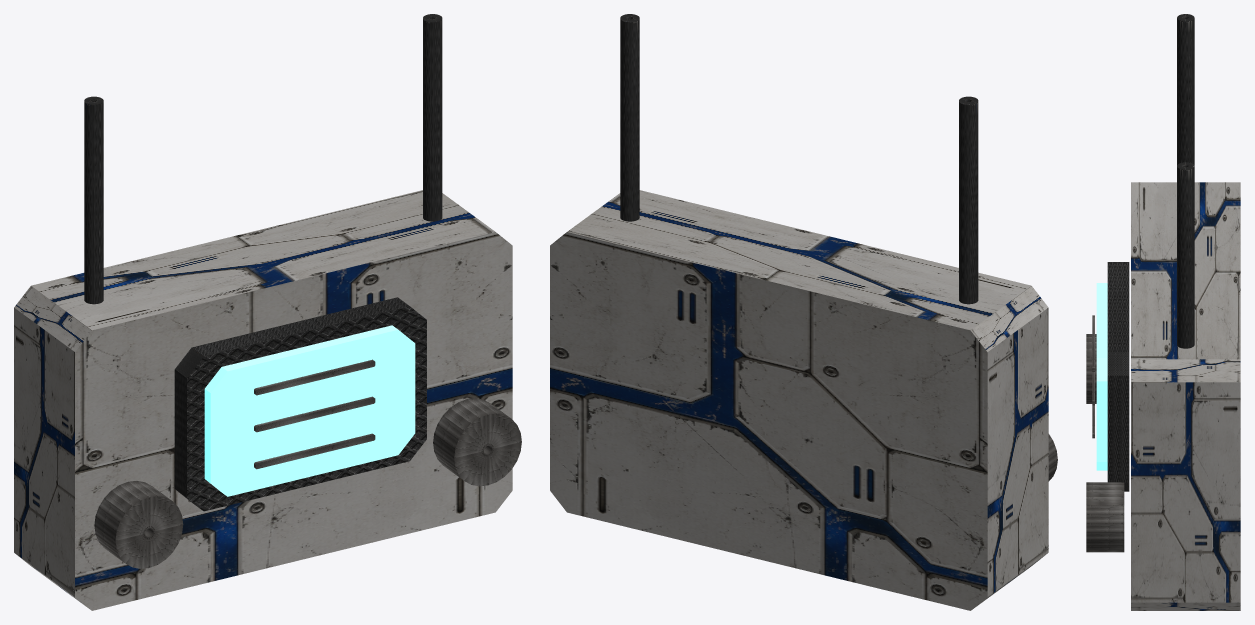
Rendered from drone_controller.gltf.
3 views of the same model, side by side, from view 1: azimuth 30°, elevation 25°; view 2: azimuth 150°, elevation 25°; view 3: azimuth 270°, elevation 25° (orthographic). The views are drawn at different scales.
Visible parts, largest first — view 1: Controller, Display, DisplayFrame, Joystick (×2), Antenna (×2), ScreenReadout (×3); view 2: Controller, Antenna (×2); view 3: Controller, Antenna (×2), DisplayFrame, Joystick (×2), Display.
Part boxes in pixels (<box>): Controller: <box>14,190,512,610</box>; Display: <box>204,325,415,496</box>; DisplayFrame: <box>174,297,426,511</box>; Joystick (×2): <box>94,398,521,568</box>; Antenna (×2): <box>84,14,442,304</box>; ScreenReadout (×3): <box>254,359,375,469</box>; Controller: <box>550,190,1048,610</box>; Antenna (×2): <box>620,14,978,304</box>; Controller: <box>1131,182,1240,610</box>; Antenna (×2): <box>1177,14,1194,348</box>; DisplayFrame: <box>1107,262,1129,491</box>; Joystick (×2): <box>1086,334,1124,552</box>; Display: <box>1096,283,1107,470</box>.
Bounding box in the file's own units: 0.2325 × 0.2438 × 0.0791.
4 materials, 3 textured.
